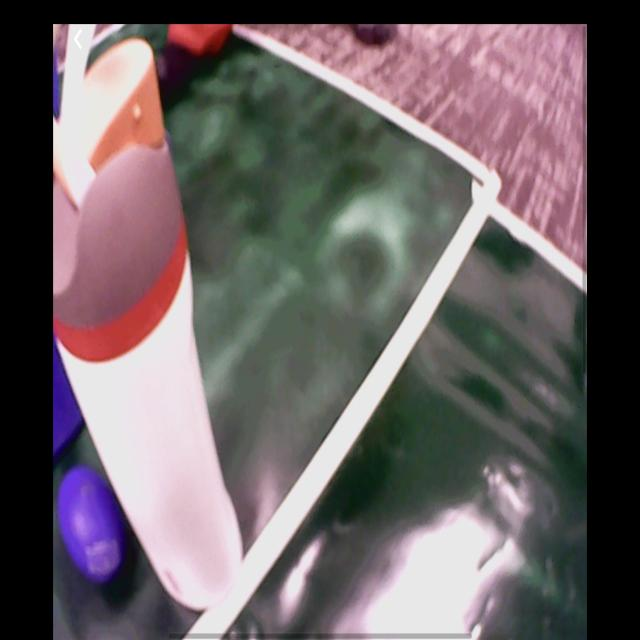ball: (59, 468, 130, 585)
